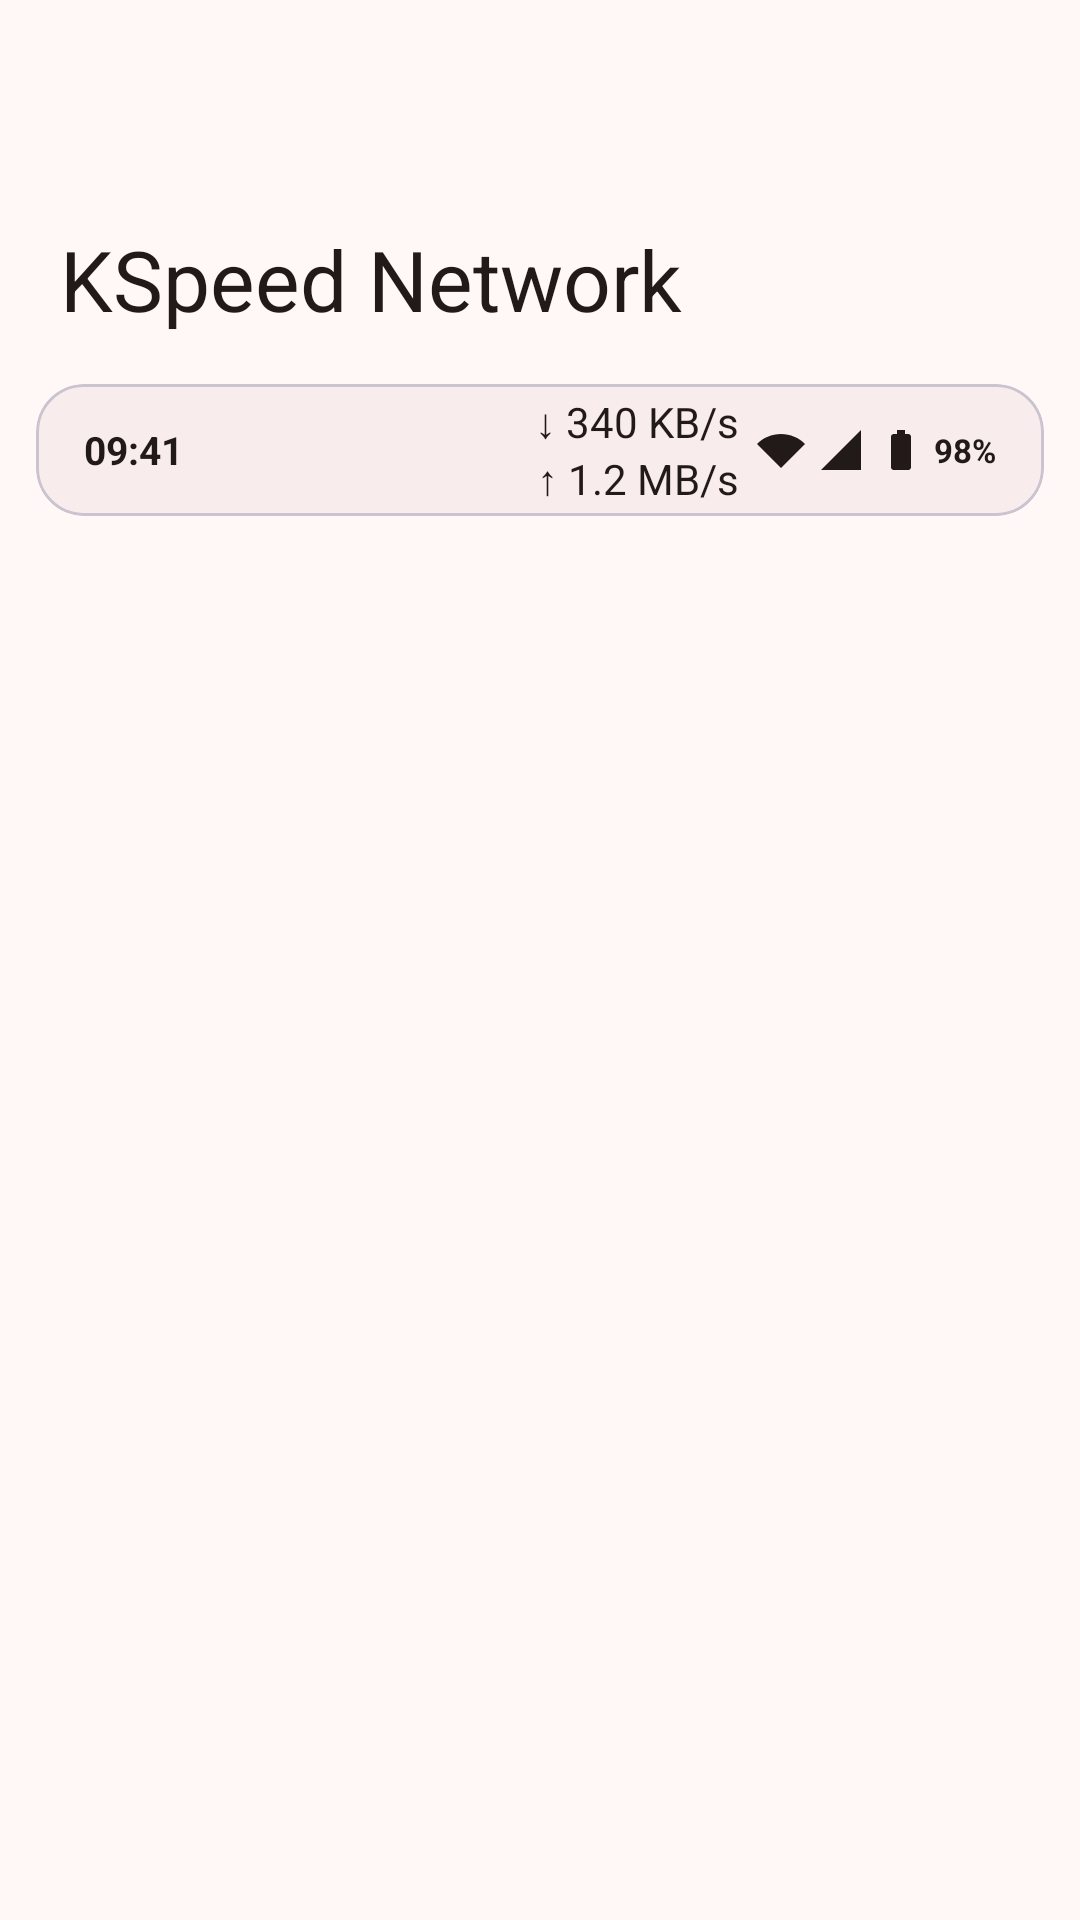

Where to tap for icons on this 1080x1920 app screen, as point (x, y):
status battery: point (901, 450)
status cellular: point (841, 450)
status wifi: point (781, 451)
